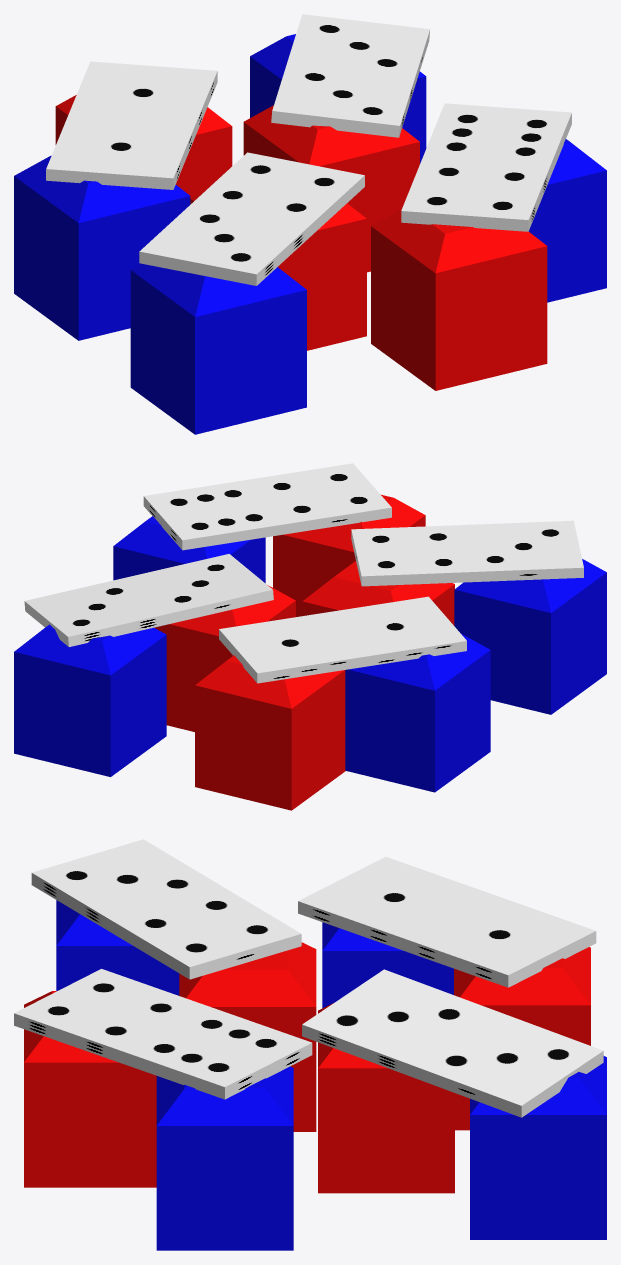
The model's file is blocks_9.glb.
3 renders of one model, top to bottom at view 1: azimuth 30°, elevation 25°; view 2: azimuth 150°, elevation 25°; view 3: azimuth 270°, elevation 25°, orthographic. The views are drawn at different scales.
Parts seen in each view (by area): view 1: Cube.022, Cube.019, Cube.018, Cube.020, Cube.006, Cube.017, Cube.002, Cube.005, Cube.021, Cube.004, Cube.007, Cube (+4 smaller); view 2: Cube.016, Cube.023, Cube.018, Cube.019, Cube.001, Cube, Cube.007, Cube.006, Cube.020, Cube.002, Cube.005, Cube.003 (+4 smaller); view 3: Cube.017, Cube.016, Cube.022, Cube.020, Cube.003, Cube.004, Cube.001, Cube.007, Cube, Cube.021, Cube.002, Cube.005 (+4 smaller).
Boxes of the visible parts, left/top/right/bottom form: Cube.022: left=371, top=209, right=547, bottom=390; Cube.019: left=130, top=263, right=306, bottom=434; Cube.018: left=14, top=155, right=190, bottom=340; Cube.020: left=243, top=105, right=419, bottom=272; Cube.006: left=139, top=202, right=310, bottom=285; Cube.017: left=528, top=139, right=606, bottom=302; Cube.002: left=401, top=157, right=550, bottom=231; Cube.005: left=46, top=115, right=195, bottom=189; Cube.021: left=190, top=190, right=366, bottom=350; Cube.004: left=271, top=62, right=414, bottom=137; Cube.007: left=194, top=152, right=364, bottom=235; Cube: left=68, top=61, right=217, bottom=135; Cube.016: left=14, top=624, right=166, bottom=776; Cube.023: left=195, top=655, right=345, bottom=810; Cube.018: left=345, top=633, right=490, bottom=792; Cube.019: left=454, top=559, right=606, bottom=714; Cube.001: left=143, top=479, right=287, bottom=550; Cube: left=219, top=613, right=362, bottom=683; Cube.007: left=351, top=525, right=472, bottom=586; Cube.006: left=462, top=520, right=583, bottom=581; Cube.020: left=154, top=585, right=295, bottom=731; Cube.002: left=249, top=463, right=391, bottom=533; Cube.005: left=324, top=596, right=466, bottom=667; Cube.003: left=24, top=577, right=171, bottom=646; Cube.017: left=156, top=1066, right=293, bottom=1250; Cube.016: left=470, top=1056, right=606, bottom=1239; Cube.022: left=24, top=991, right=156, bottom=1187; Cube.020: left=318, top=1002, right=454, bottom=1193; Cube.003: left=412, top=1010, right=603, bottom=1117; Cube.004: left=302, top=969, right=493, bottom=1076; Cube.001: left=119, top=1006, right=312, bottom=1099; Cube.007: left=110, top=886, right=301, bottom=979; Cube: left=403, top=894, right=596, bottom=987; Cube.021: left=179, top=942, right=316, bottom=1131; Cube.002: left=14, top=969, right=206, bottom=1062; Cube.005: left=298, top=857, right=490, bottom=950.
Size of the model in its own units: 8.47 by 2.78 by 8.66.
Materials: 9 (1 with a texture image).
